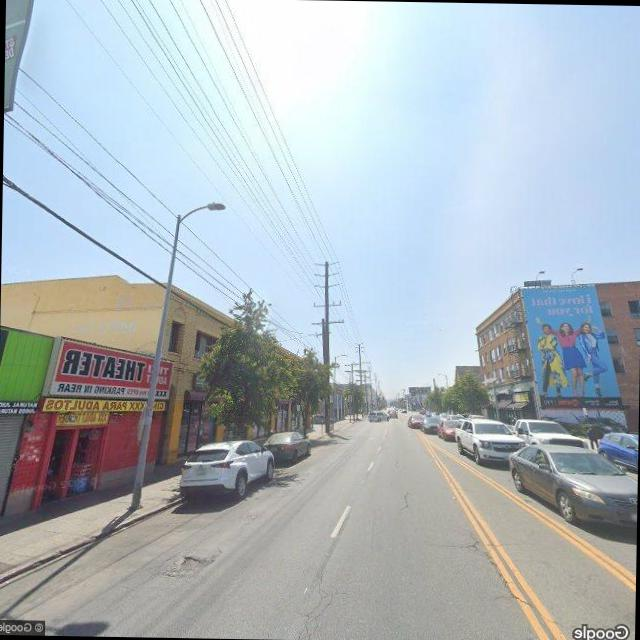crack: (458, 524, 556, 620), (284, 558, 344, 640), (400, 484, 418, 516)
pothole: (179, 550, 211, 568)
